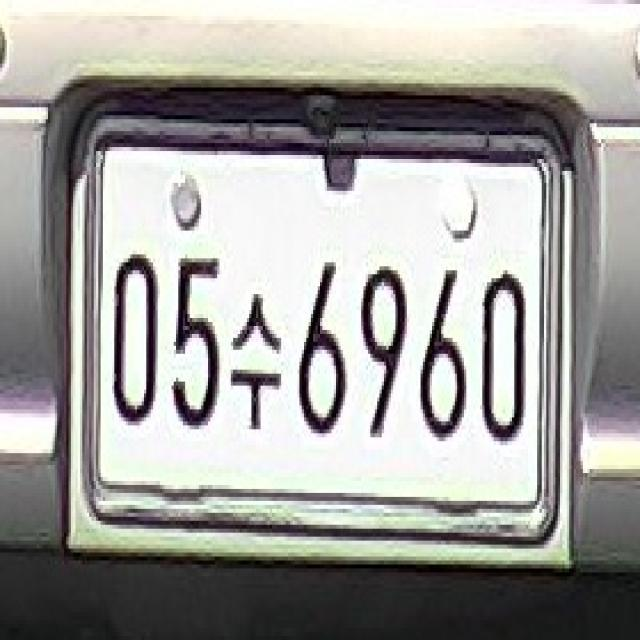plat: (61, 88, 578, 566)
